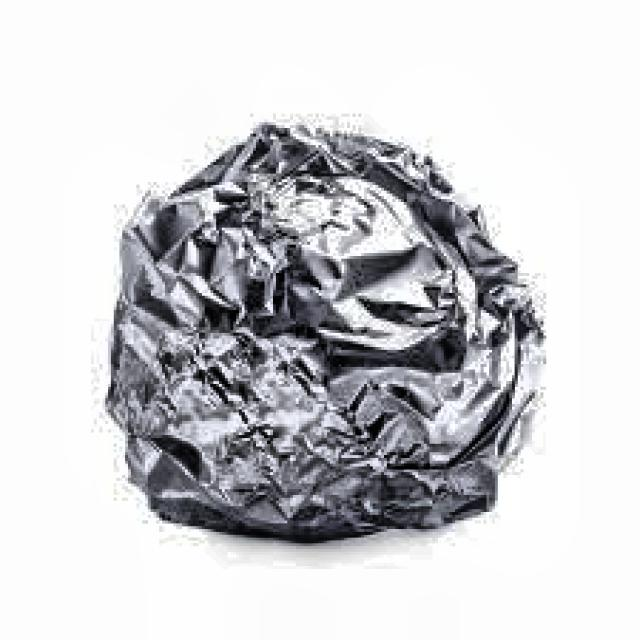Foil: (93, 103, 547, 543)
